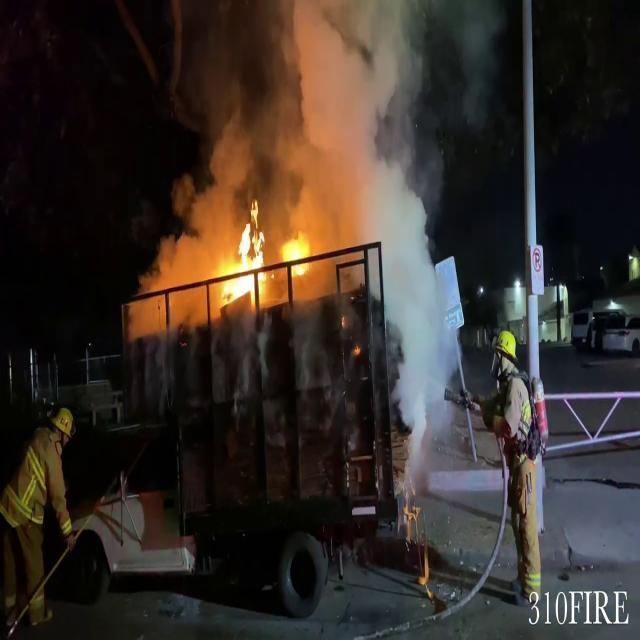Fire: (207, 203, 317, 305), (210, 204, 274, 307)
Smoke: (158, 1, 452, 272), (352, 146, 447, 426)
